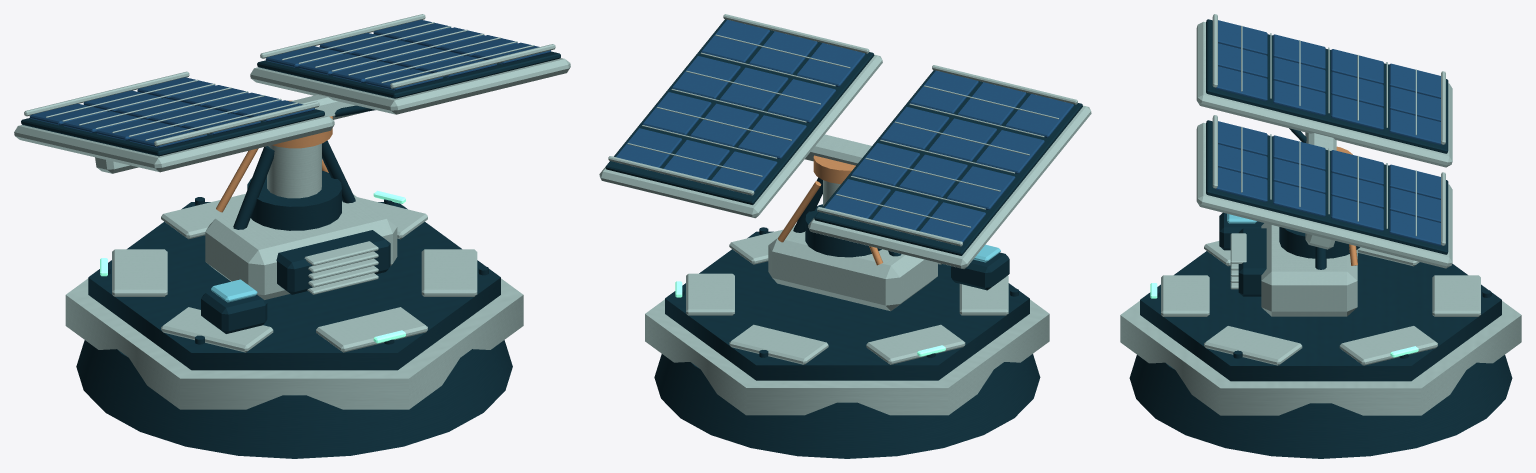
Rendered from solar.glb.
3 views of the same model, side by side, from view 1: azimuth 30°, elevation 25°; view 2: azimuth 150°, elevation 25°; view 3: azimuth 270°, elevation 25° (orthographic). The views are drawn at different scales.
Parts seen in each view (by area): view 1: DetailedIndustrialHull, TrackingSolarWings; view 2: DetailedIndustrialHull, TrackingSolarWings; view 3: DetailedIndustrialHull, TrackingSolarWings.
Boxes of the visible parts, <box> form: DetailedIndustrialHull: <box>65,100,523,458</box>; TrackingSolarWings: <box>14,14,570,173</box>; DetailedIndustrialHull: <box>645,155,1049,458</box>; TrackingSolarWings: <box>599,14,1091,268</box>; DetailedIndustrialHull: <box>1120,146,1521,458</box>; TrackingSolarWings: <box>1196,14,1452,268</box>.
Size of the model in its own units: 0.363 by 0.2654 by 0.346.
1 material, 1 textured.
